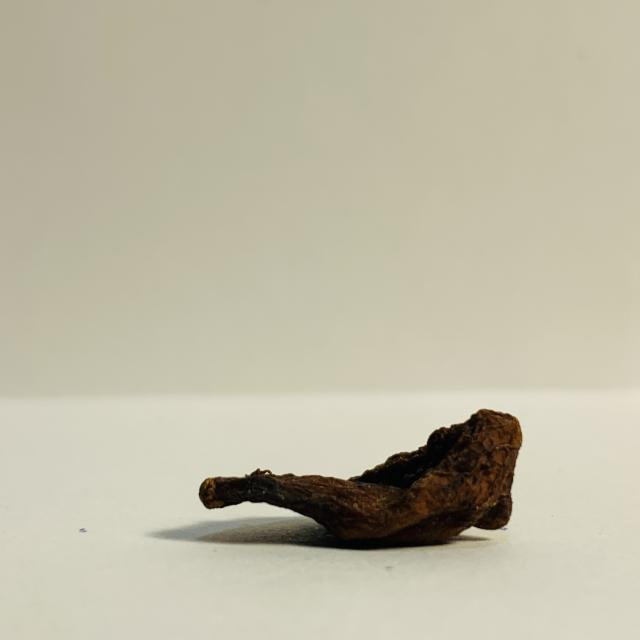Flat_cocoabeans: (88, 404, 599, 570)
